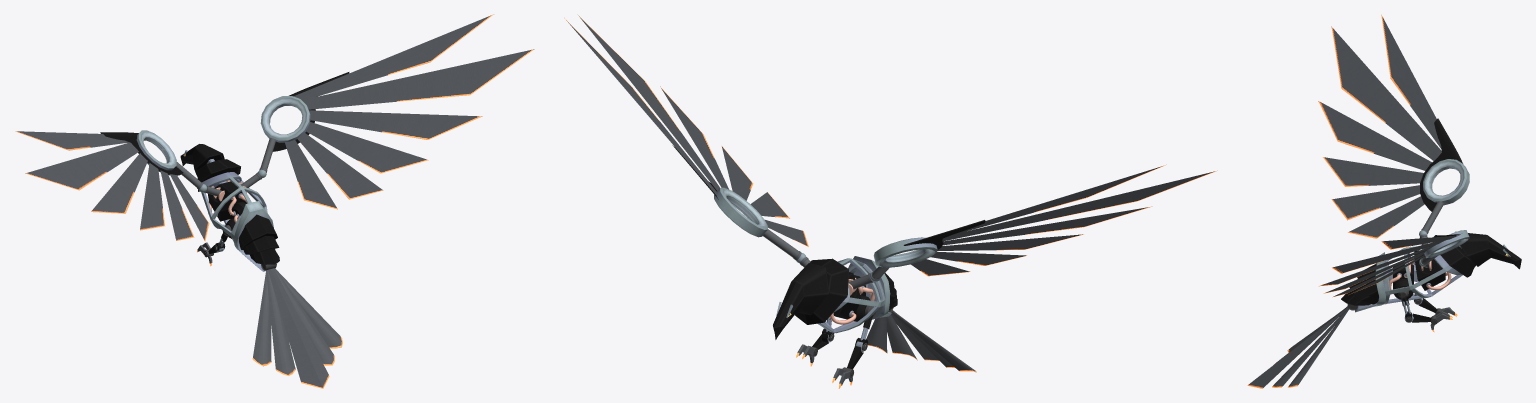
File: mechanical_eagle.glb
3 views of the same model, side by side, from view 1: azimuth 30°, elevation 25°; view 2: azimuth 150°, elevation 25°; view 3: azimuth 270°, elevation 25° (orthographic). The views are drawn at different scales.
Visible parts, largest first — view 1: Object_4, Object_5, Object_6; view 2: Object_4, Object_5, Object_6; view 3: Object_4, Object_5, Object_6.
Boxes of the visible parts, bbox=[...] form: Object_4: bbox=[15, 14, 534, 375]; Object_5: bbox=[160, 132, 383, 388]; Object_6: bbox=[136, 96, 310, 270]; Object_4: bbox=[564, 15, 1216, 385]; Object_5: bbox=[750, 192, 1026, 388]; Object_6: bbox=[714, 187, 937, 324]; Object_4: bbox=[1272, 15, 1462, 387]; Object_5: bbox=[1247, 185, 1521, 388]; Object_6: bbox=[1347, 159, 1469, 310].
Size of the model in its own units: 38.72 by 19.3 by 18.62.
Materials: 1 (1 with a texture image).
